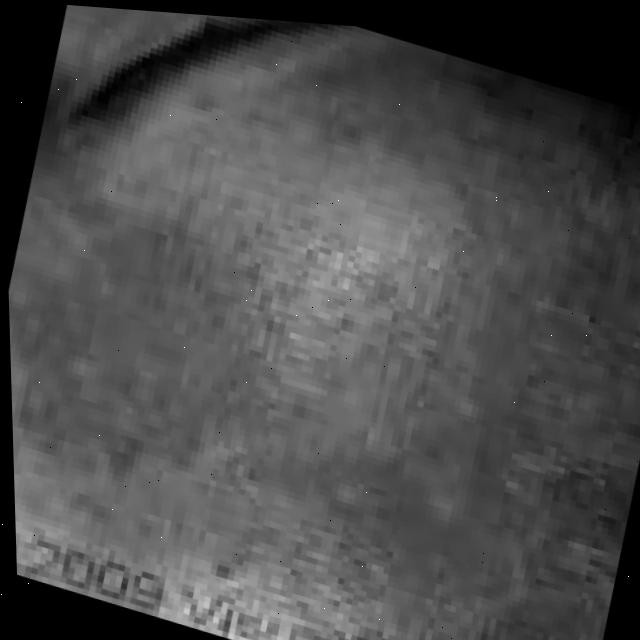Melasma: (9, 45, 593, 640)
